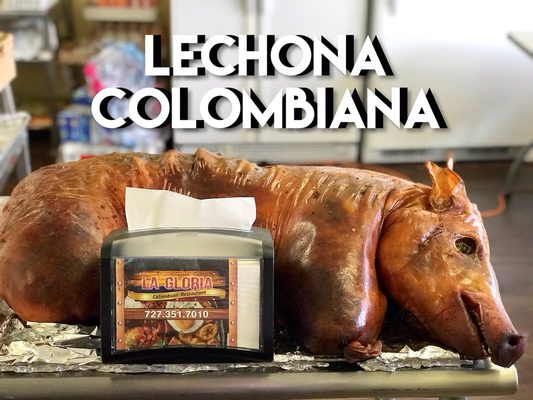pasta: (4, 143, 532, 365)
